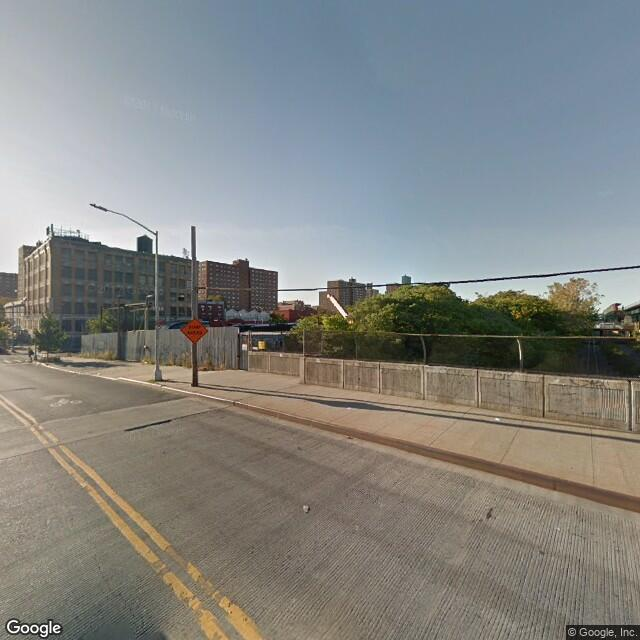litter: (301, 503, 313, 511), (494, 416, 507, 423), (141, 360, 152, 364), (345, 402, 350, 408)
